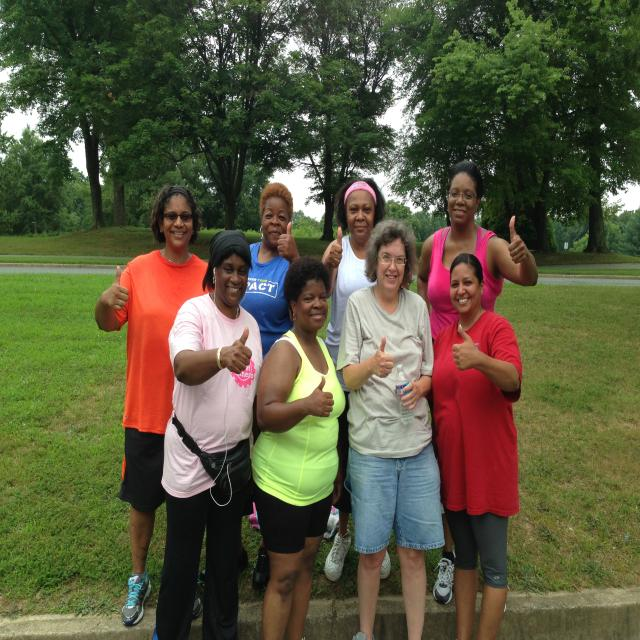body: (412, 153, 541, 620), (93, 182, 213, 628), (332, 213, 448, 640), (147, 226, 266, 640), (200, 182, 300, 591), (247, 250, 350, 640), (431, 251, 524, 638), (320, 175, 392, 582)
